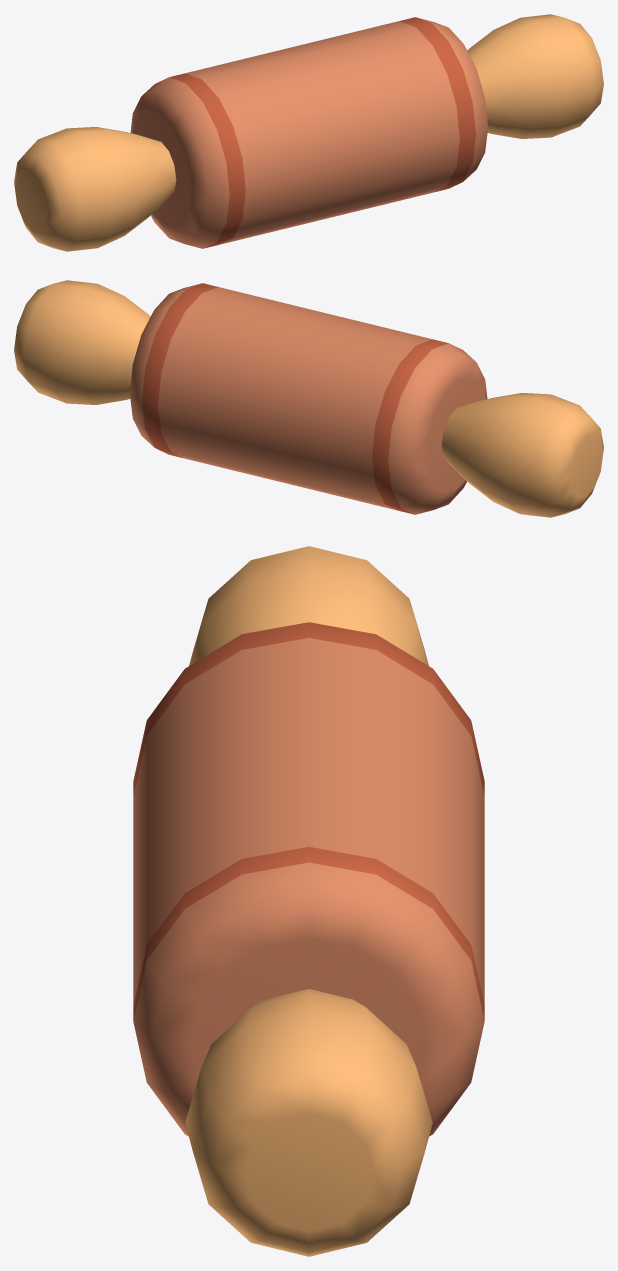
Rendered from rolo_massa_natal_pacote.glb.
The picture shows the model from 3 angles, top to bottom: view 1: azimuth 30°, elevation 25°; view 2: azimuth 150°, elevation 25°; view 3: azimuth 270°, elevation 25°; orthographic projection. The views are drawn at different scales.
Visible parts, largest first — view 1: rolo_massa_natal_pacote; view 2: rolo_massa_natal_pacote; view 3: rolo_massa_natal_pacote.
Part boxes in pixels (box(x1,y1,x2,y2)): rolo_massa_natal_pacote: box(14, 14, 603, 251); rolo_massa_natal_pacote: box(14, 280, 603, 517); rolo_massa_natal_pacote: box(133, 546, 484, 1256).
Size of the model in its own units: 0.3891 by 0.1066 by 0.1066.
1 material, 1 textured.
